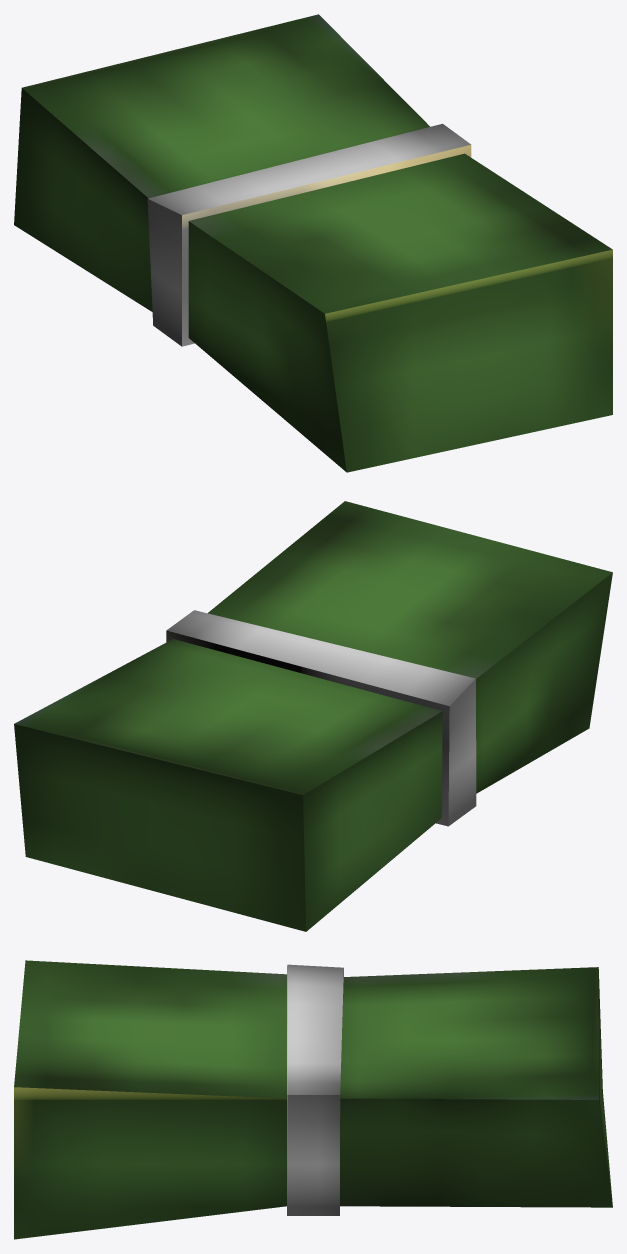
File: BlockOfMoney.fbx
3 renders of one model, top to bottom at view 1: azimuth 30°, elevation 25°; view 2: azimuth 150°, elevation 25°; view 3: azimuth 270°, elevation 25°, orthographic. The views are drawn at different scales.
Visible parts, largest first — view 1: Money Block; view 2: Money Block; view 3: Money Block.
Part boxes in pixels (<box>): Money Block: <box>14,14,612,472</box>; Money Block: <box>14,501,612,931</box>; Money Block: <box>14,960,612,1239</box>.
Size of the model in its own units: 8.74 by 4.46 by 15.88.
